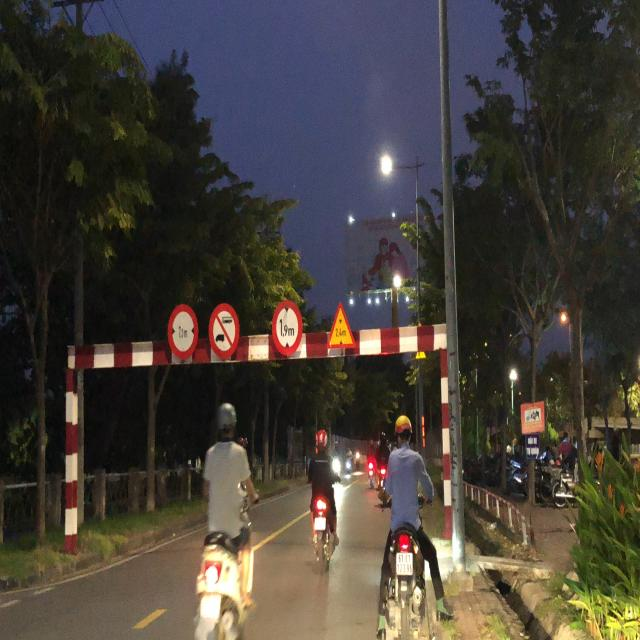Bien bao cam xe oto khach va xe oto tai: (208, 300, 242, 359)
Bien bao chieu cao tinh khong thuc te: (324, 294, 358, 356)
Bien bao han che chieu cao: (270, 295, 309, 360)
